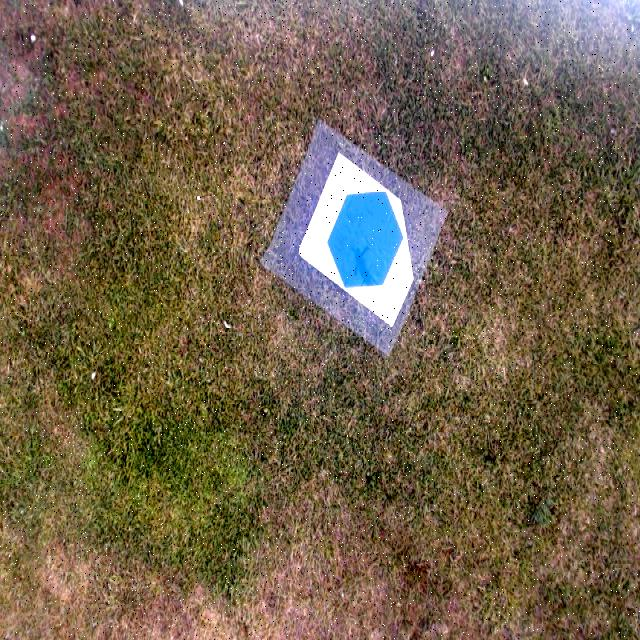blue_hexagon: (327, 190, 403, 290)
